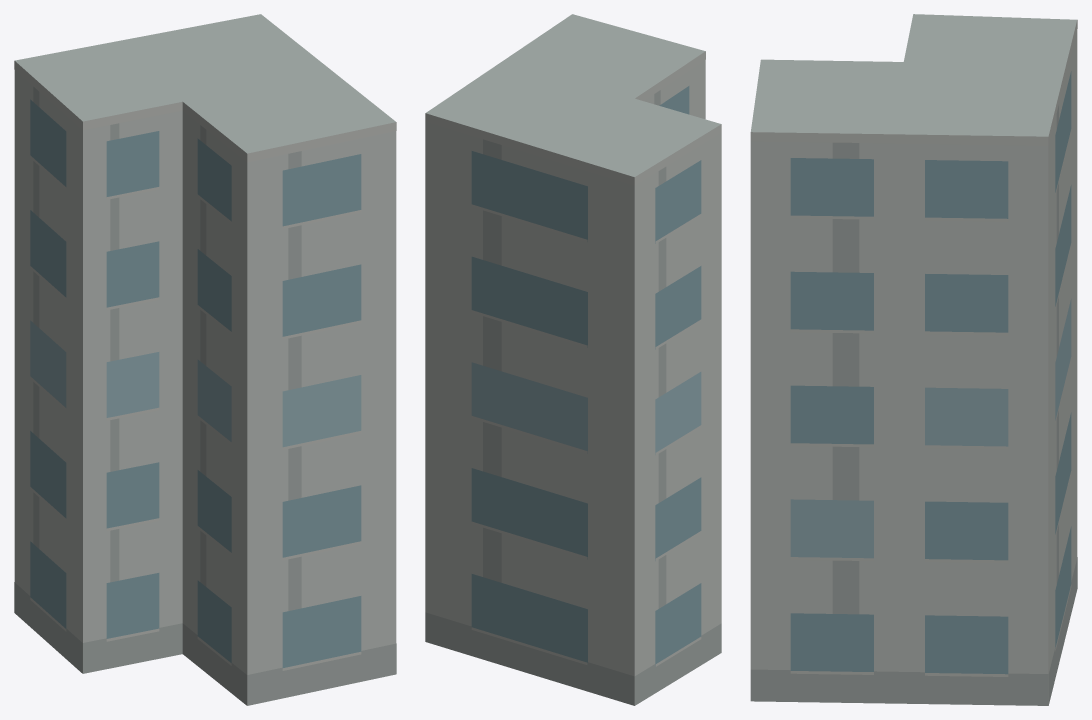
The model's file is survey-upis-32781188.glb.
3 views of the same model, side by side, from view 1: azimuth 30°, elevation 25°; view 2: azimuth 150°, elevation 25°; view 3: azimuth 270°, elevation 25° (orthographic). The views are drawn at different scales.
Parts seen in each view (by area): view 1: survey-upis-32781188.tmp; view 2: survey-upis-32781188.tmp; view 3: survey-upis-32781188.tmp.
Boxes of the visible parts, left/top/right/bottom form: survey-upis-32781188.tmp: left=14, top=14, right=396, bottom=705; survey-upis-32781188.tmp: left=425, top=14, right=721, bottom=705; survey-upis-32781188.tmp: left=750, top=14, right=1077, bottom=705.
Size of the model in its own units: 6.99 by 15.1 by 7.86.
